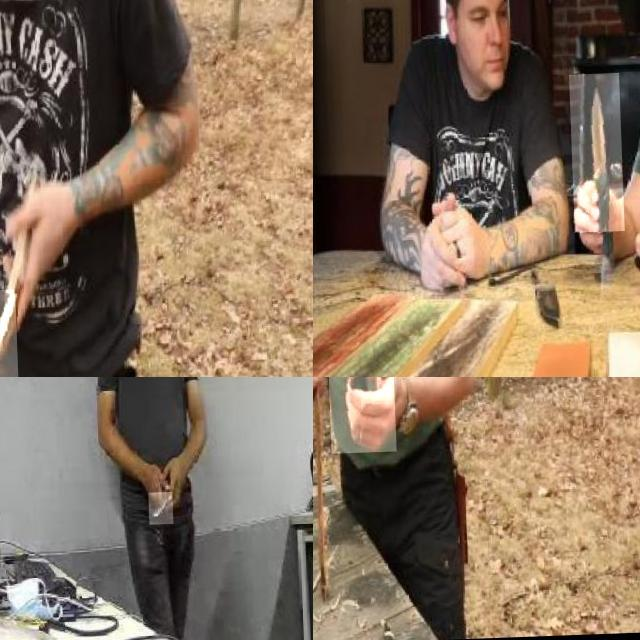-: (567, 76, 622, 236), (323, 377, 393, 457), (0, 291, 49, 377), (145, 494, 170, 527)
